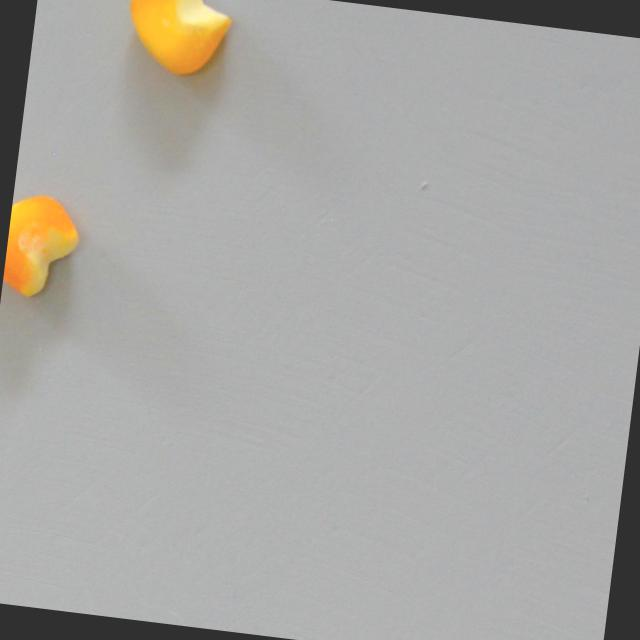no_canjicado: (121, 0, 235, 79)
pelicula: (1, 191, 84, 303)
